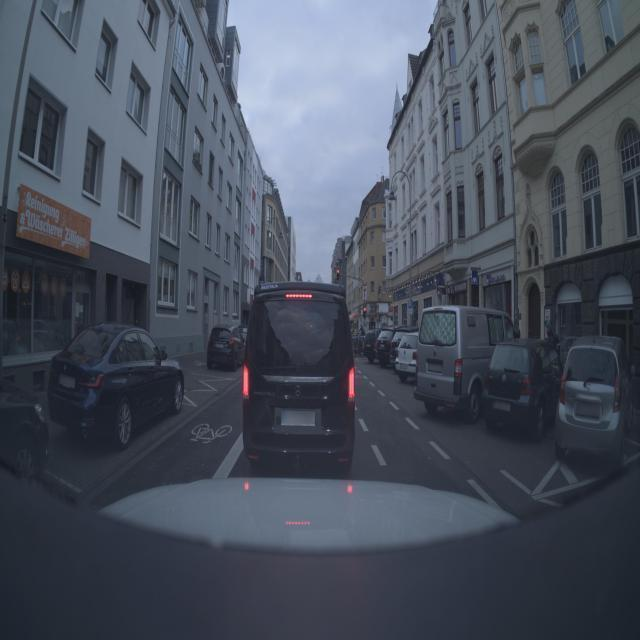red_light: (334, 267, 342, 283), (361, 305, 368, 321)
